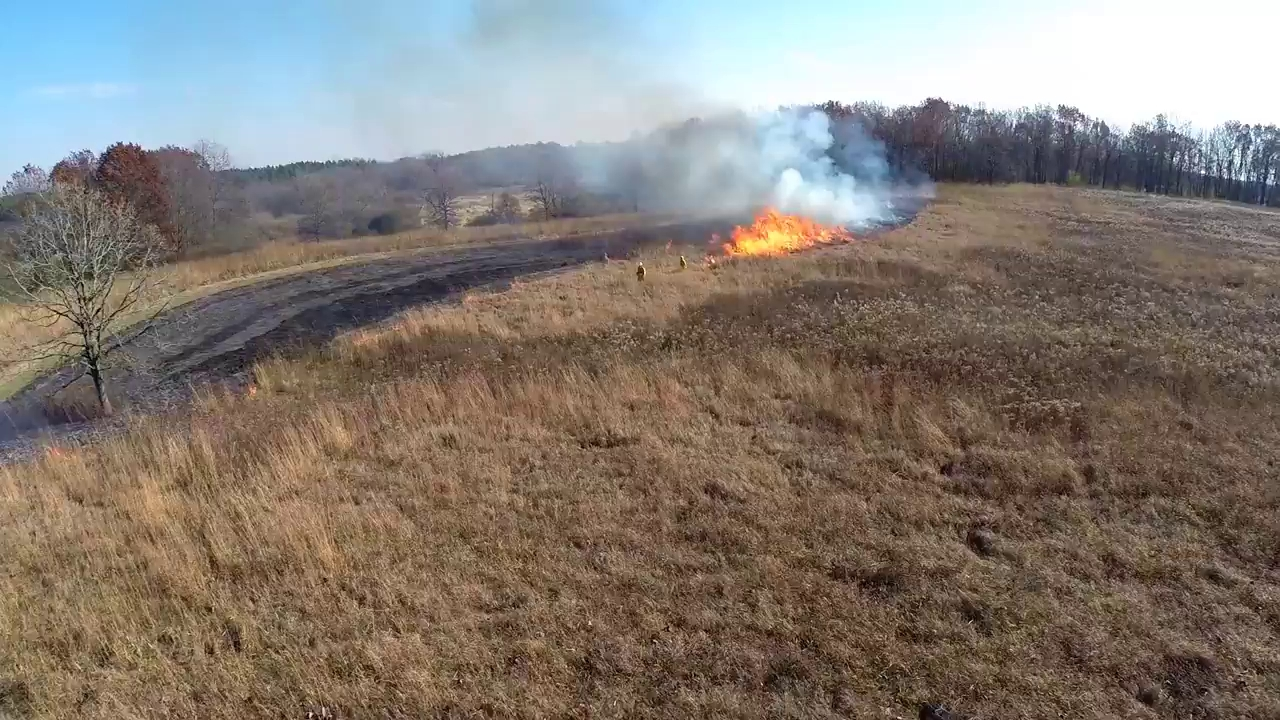forest_fire: (722, 208, 851, 256)
